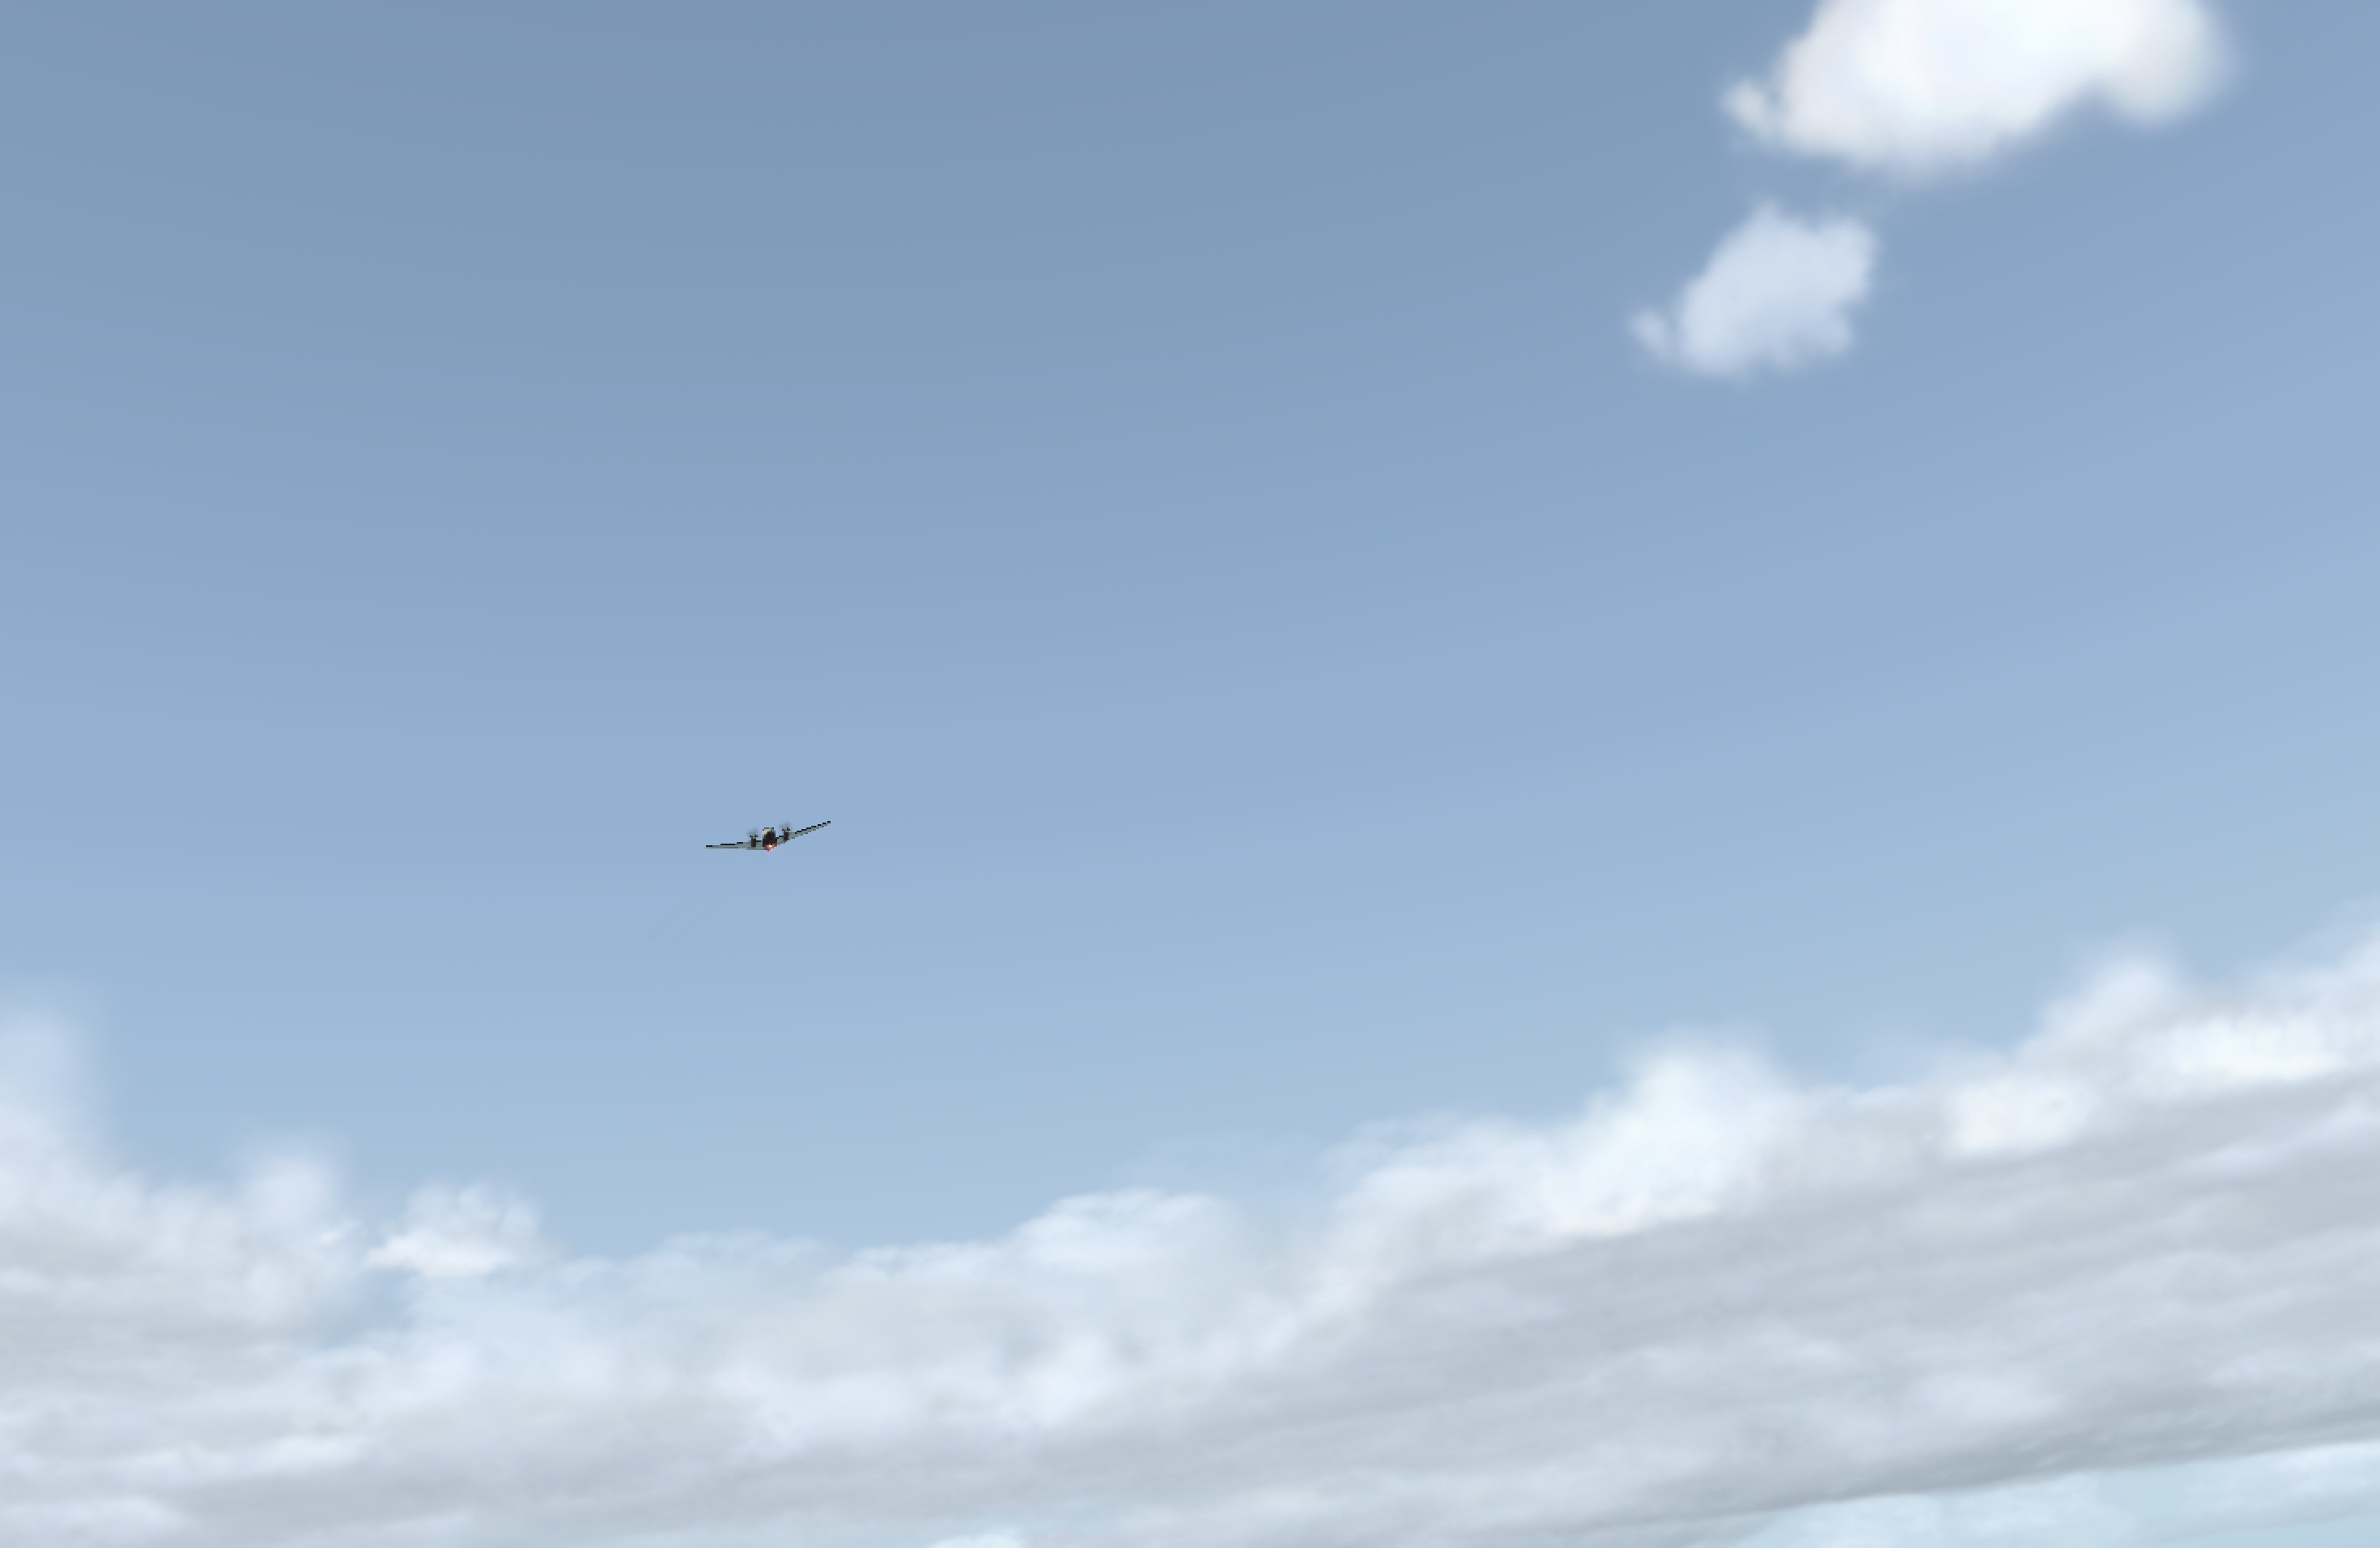aircraft: (708, 817, 833, 864)
